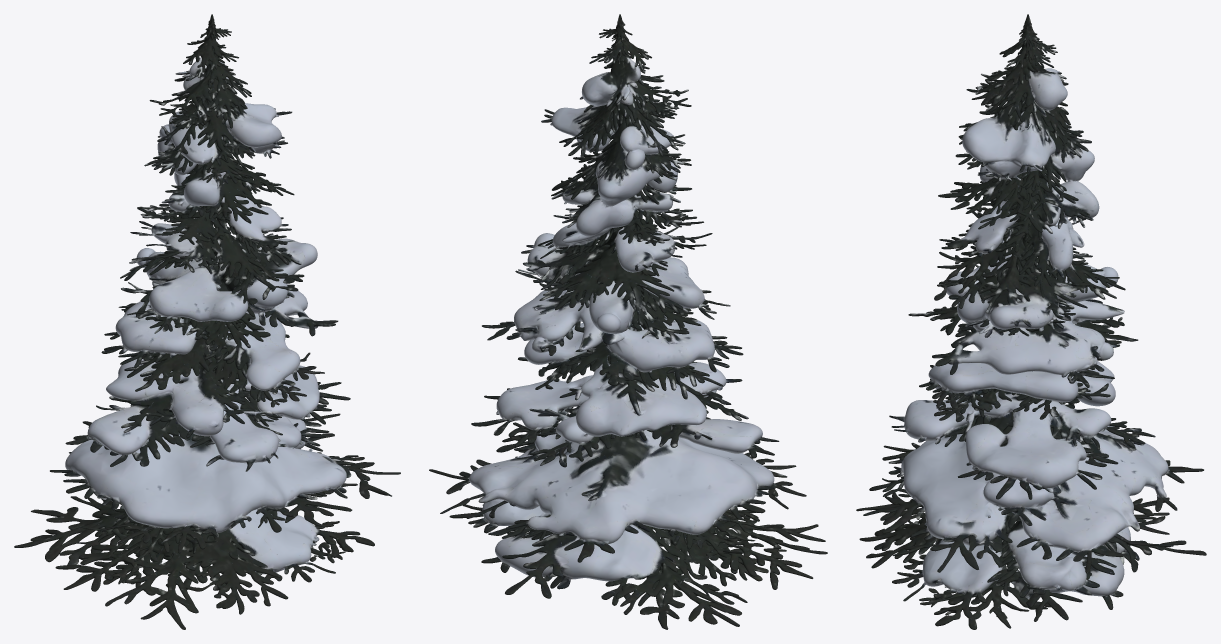
The model's file is christmas-tree.glb.
The picture shows the model from 3 angles, left to right: view 1: azimuth 30°, elevation 25°; view 2: azimuth 150°, elevation 25°; view 3: azimuth 270°, elevation 25°; orthographic projection. The views are drawn at different scales.
Size of the model in its own units: 1.17 by 1.83 by 1.05.
1 material, 1 textured.
